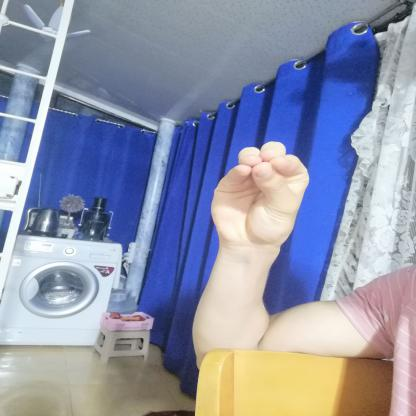HA: (196, 132, 326, 258)
